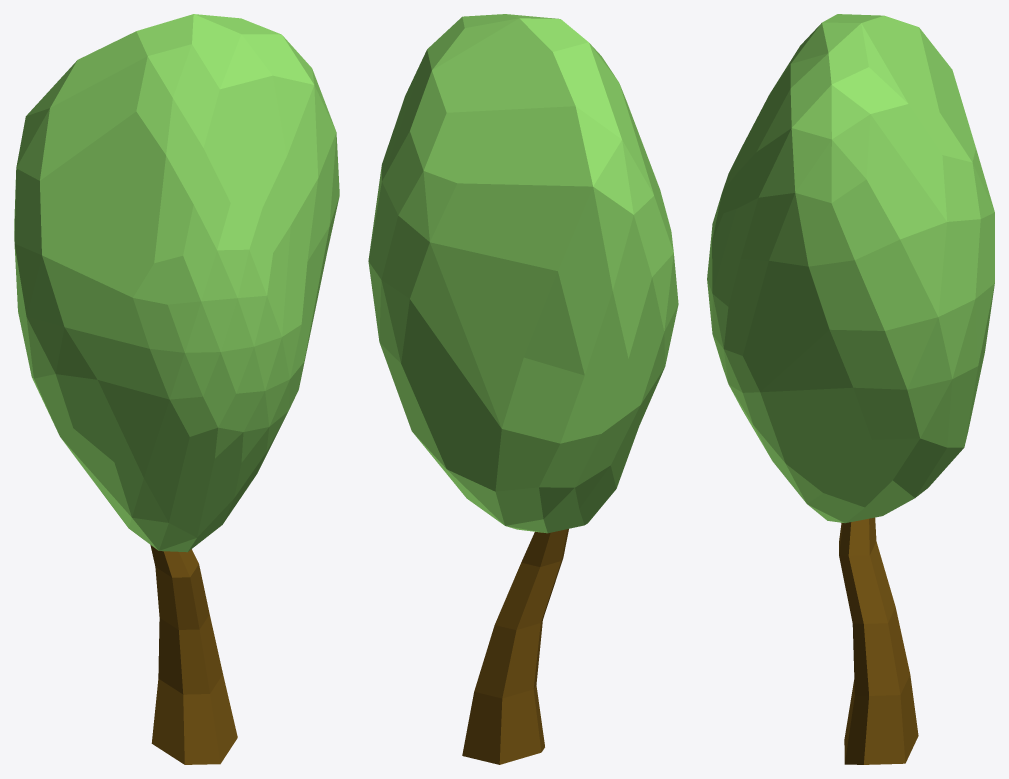
Rendered from treeB.fbx.
The picture shows the model from 3 angles, left to right: view 1: azimuth 30°, elevation 25°; view 2: azimuth 150°, elevation 25°; view 3: azimuth 270°, elevation 25°; orthographic projection. The views are drawn at different scales.
Parts seen in each view (by area): view 1: Tree B; view 2: Tree B; view 3: Tree B.
Part boxes in pixels (x1,y1,x2,y2): Tree B: [14, 14, 339, 764]; Tree B: [368, 14, 678, 764]; Tree B: [707, 14, 994, 764].
Bounding box in the file's own units: 342 × 859 × 306.
